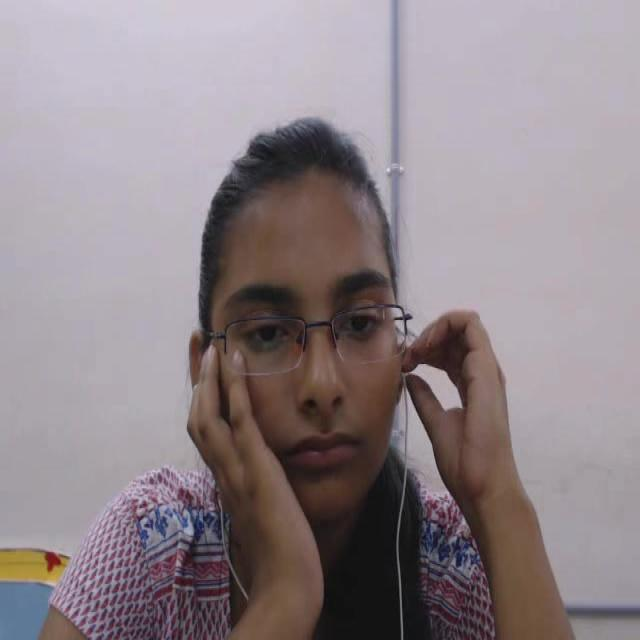Bored: (161, 104, 473, 544)
